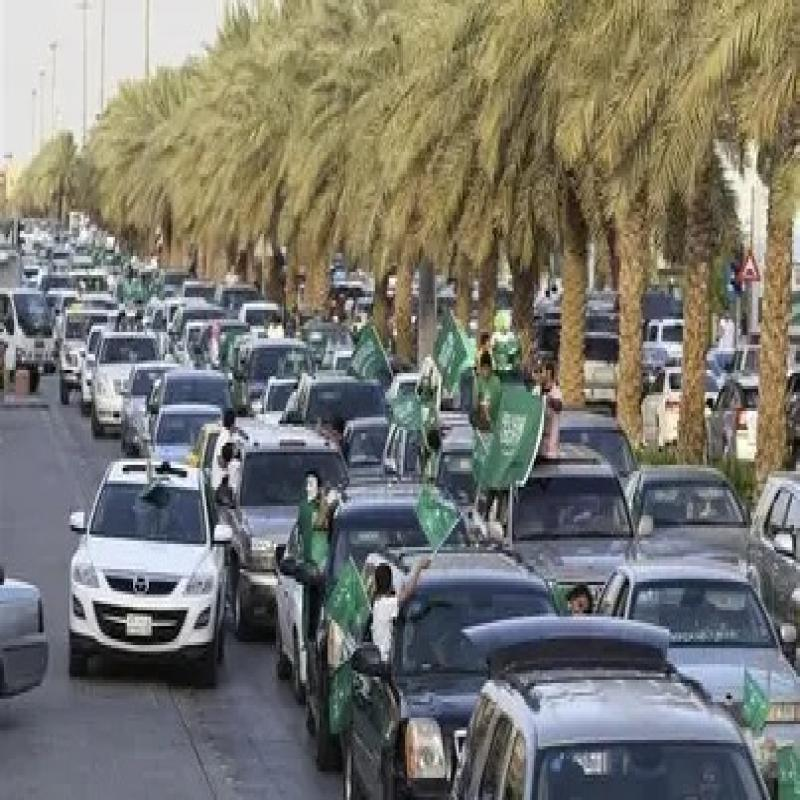license plate on a car: (123, 606, 160, 650)
